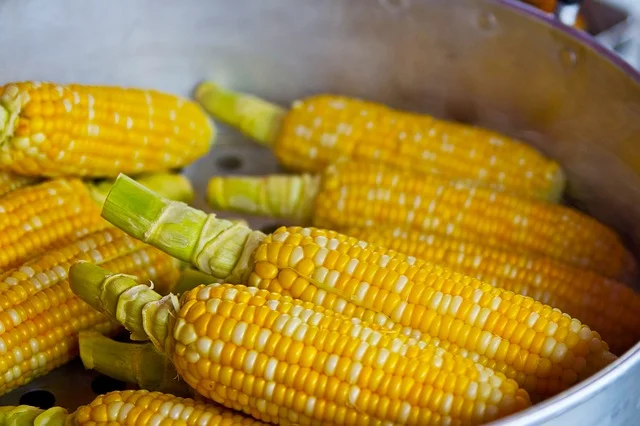corn: (95, 165, 597, 426)
